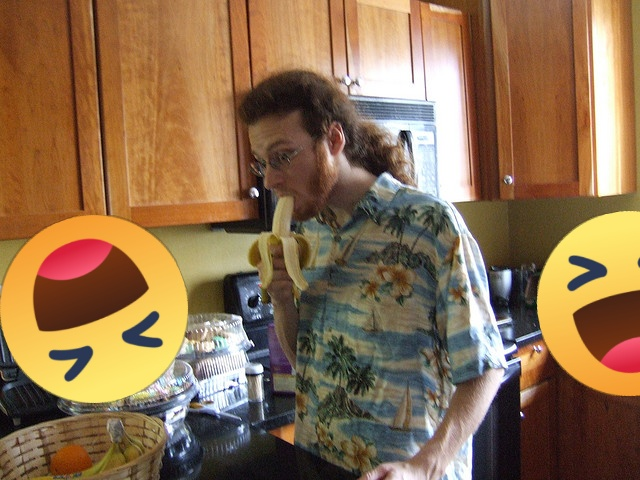haha: (0, 215, 188, 403), (537, 211, 640, 396)
